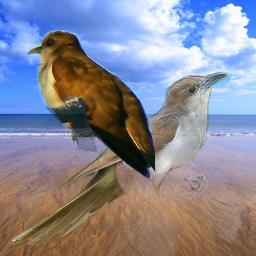Cuckoo: (10, 72, 228, 246), (27, 30, 155, 182)
